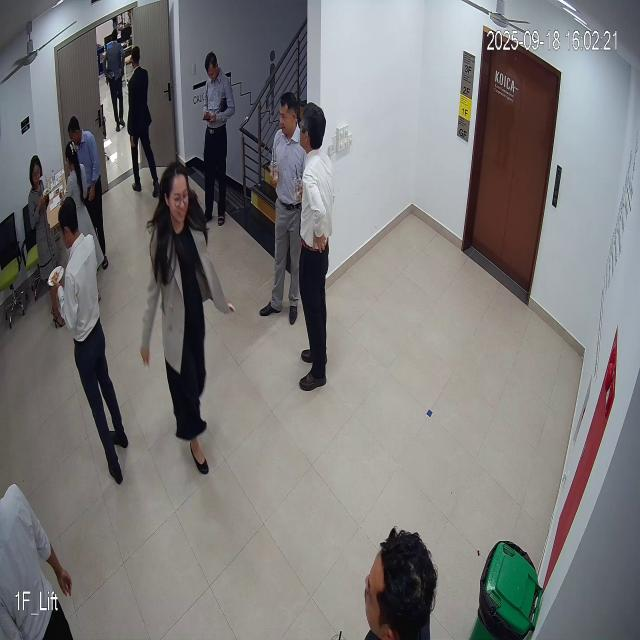face: (156, 161, 194, 230), (278, 90, 298, 138)
